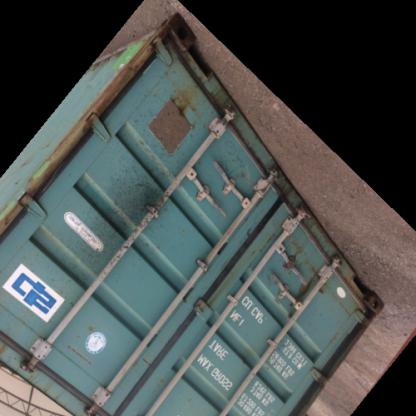Damage: (63, 180, 172, 286), (164, 11, 218, 126), (265, 244, 343, 280), (343, 272, 384, 332), (267, 165, 295, 213)
